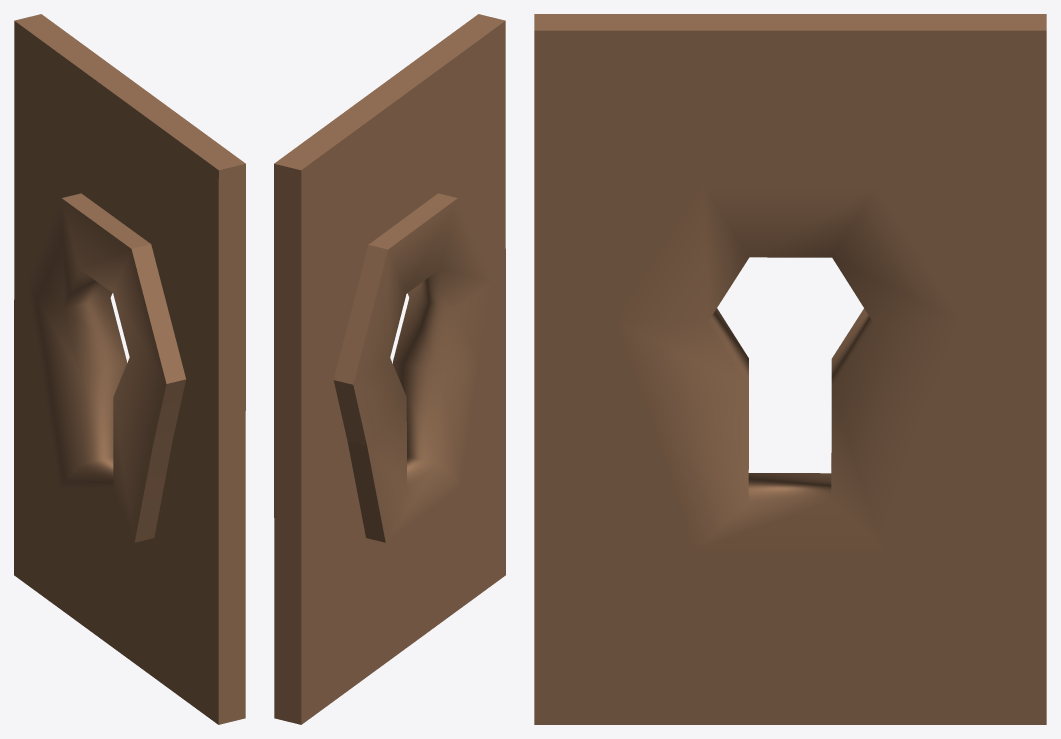
Rendered from Door_Lock.fbx.
3 views of the same model, side by side, from view 1: azimuth 30°, elevation 25°; view 2: azimuth 150°, elevation 25°; view 3: azimuth 270°, elevation 25° (orthographic). The views are drawn at different scales.
Visible parts, largest first — view 1: Door_Lock; view 2: Door_Lock; view 3: Door_Lock.
Boxes of the visible parts, left/top/right/bottom form: Door_Lock: left=14, top=14, right=245, bottom=724; Door_Lock: left=274, top=14, right=505, bottom=724; Door_Lock: left=534, top=14, right=1046, bottom=724.
Size of the model in its own units: 1.84 by 20.7 by 13.84.
